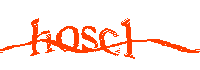c: (100, 27, 122, 56)
h: (30, 18, 53, 55)
l: (121, 17, 137, 60)
o: (55, 25, 79, 52)
s: (80, 25, 99, 54)
